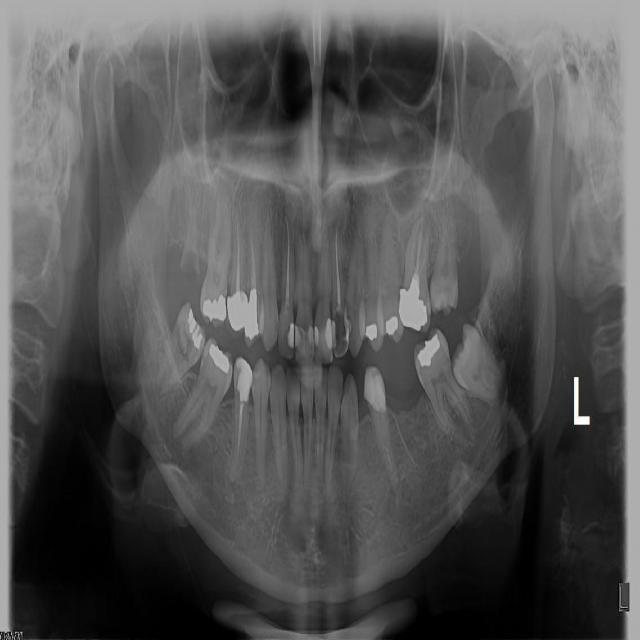Caries: (335, 309, 348, 338), (282, 324, 294, 354), (296, 323, 309, 339), (273, 317, 279, 336)
Crown: (225, 291, 248, 335), (363, 367, 386, 411)
Filling: (399, 273, 428, 331), (417, 331, 440, 367), (246, 288, 260, 340), (236, 357, 252, 401), (202, 294, 227, 322), (209, 343, 228, 372), (294, 323, 306, 353), (192, 323, 202, 351), (187, 307, 197, 333), (325, 316, 332, 349), (345, 309, 353, 337), (385, 316, 397, 334), (366, 322, 377, 341), (288, 324, 295, 348), (314, 324, 319, 348), (332, 318, 336, 346), (308, 325, 313, 344)
Missing teeth: (376, 349, 426, 413)
Root Canal Treatment: (234, 403, 245, 467), (335, 221, 342, 311), (284, 215, 290, 312), (414, 218, 422, 284), (235, 213, 241, 292), (248, 229, 256, 287)
Root Piece: (180, 192, 199, 280)
impacted tooth: (452, 326, 510, 401)
